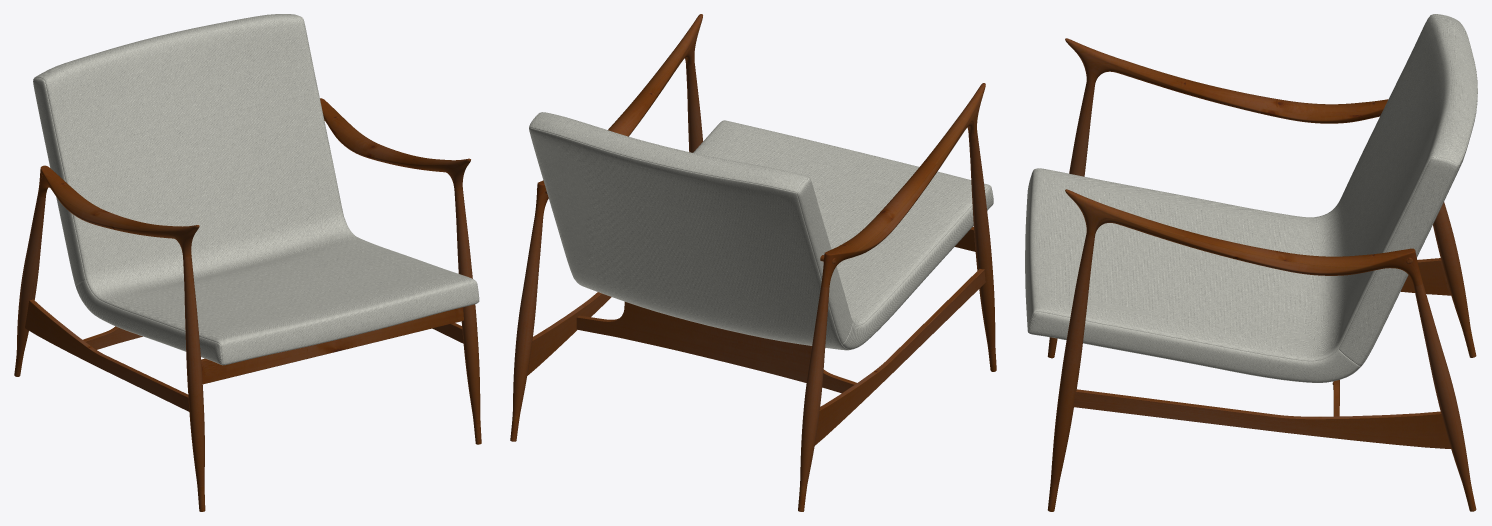
Rendered from Dinamarquesa.gltf.
3 views of the same model, side by side, from view 1: azimuth 30°, elevation 25°; view 2: azimuth 150°, elevation 25°; view 3: azimuth 270°, elevation 25° (orthographic). The views are drawn at different scales.
Visible parts, largest first — view 1: etelinteriores_dinamarquesa_mat(2)_0; view 2: etelinteriores_dinamarquesa_mat(2)_0; view 3: etelinteriores_dinamarquesa_mat(2)_0.
Boxes of the visible parts, bbox=[...] form: etelinteriores_dinamarquesa_mat(2)_0: bbox=[14, 14, 481, 511]; etelinteriores_dinamarquesa_mat(2)_0: bbox=[510, 14, 996, 511]; etelinteriores_dinamarquesa_mat(2)_0: bbox=[1025, 14, 1477, 511].
Bounding box in the file's own units: 0.68 × 0.68 × 0.79.
Materials: 2 (2 with a texture image).
